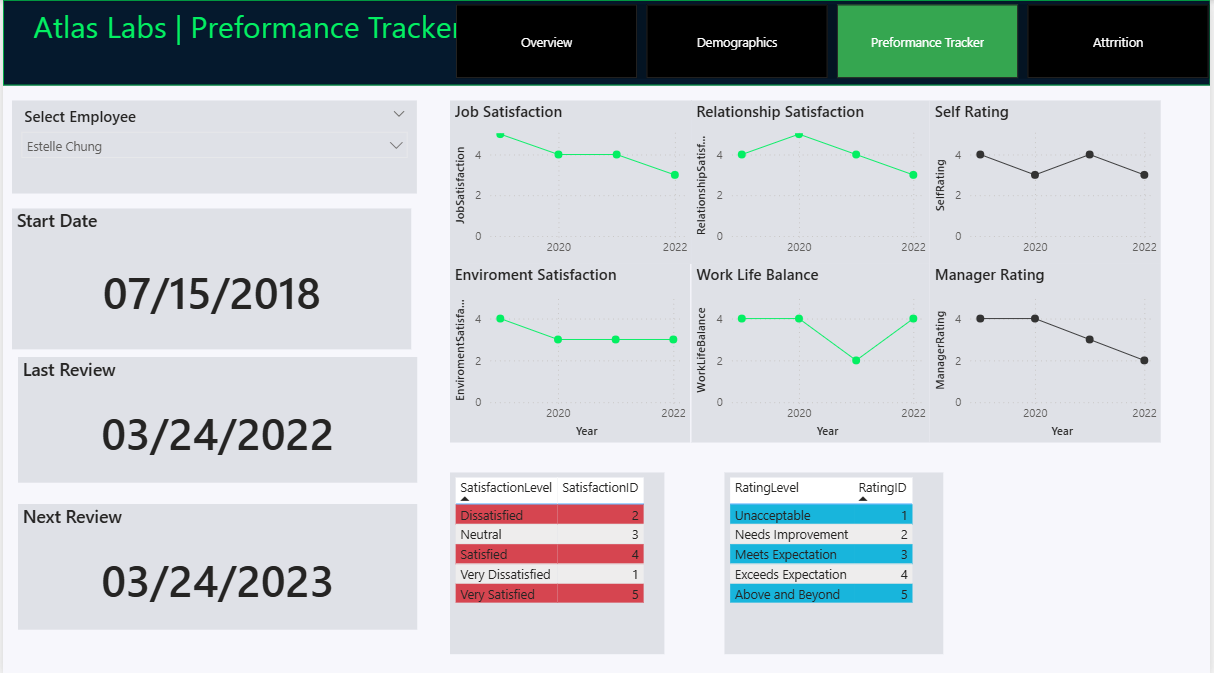

What the dashboard file says about the page in this screenshot:
{"tool":"powerbi","page":{"name":"Preformance Tracker","canvas":[1280,720],"ordinal":2},"visuals":[{"type":"slicer","fields":{"Values":["DimEmployee.FullName"]},"box":[9.5,106.6,429.5,98.6],"z":0},{"type":"card","title":"Start Date ","fields":{"Values":["Min(DimEmployee.HireDate)"]},"box":[9.5,221.1,423.1,149.5],"z":1000},{"type":"card","title":"Last Review ","fields":{"Values":["__Measures.LastReviewDate"]},"box":[15.9,378.6,423.1,133.6],"z":2000},{"type":"card","title":"Next Review ","fields":{"Values":["__Measures.NextReviewDate"]},"box":[15.9,534.4,423.1,133.6],"z":3000},{"type":"lineChart","title":"Job Satisfaction","fields":{"Category":["DimDate.Year"],"Y":["__Measures.JobSatisfaction"]},"box":[474,106.6,256.1,173.4],"z":4000},{"type":"lineChart","title":"Relationship Satisfaction ","fields":{"Category":["DimDate.Year"],"Y":["__Measures.RelationshipSatisfaction"]},"box":[730.1,106.6,252.9,173.4],"z":5000},{"type":"lineChart","title":"Self Rating ","fields":{"Category":["DimDate.Year"],"Y":["__Measures.SelfRating"]},"box":[983,106.6,245,173.4],"z":6000},{"type":"lineChart","title":"Manager Rating ","fields":{"Category":["DimDate.Year"],"Y":["__Measures.ManagerRating"]},"box":[983,279.9,245,189.3],"z":7000},{"type":"lineChart","title":"Work Life Balance","fields":{"Category":["DimDate.Year"],"Y":["__Measures.WorkLifeBalance"]},"box":[730.1,279.9,252.9,189.3],"z":8000},{"type":"lineChart","title":"Enviroment Satisfaction","fields":{"Category":["DimDate.Year"],"Y":["__Measures.EnviromentSatisfaction"]},"box":[474,279.9,254.5,189.3],"z":9000},{"type":"tableEx","fields":{"Values":["DimSatisfiedLevel.SatisfactionLevel","DimSatisfiedLevel.SatisfactionID"]},"box":[474,501,227.5,192.5],"z":10000},{"type":"tableEx","fields":{"Values":["DimRatingLevel.RatingLevel","DimRatingLevel.RatingID"]},"box":[765.1,501,232.2,192.5],"z":11000},{"type":"shape","box":[0,0,1280.4,90.7],"z":12000},{"type":"textbox","box":[27,0,474,90.7],"z":13000},{"type":"pageNavigator","box":[480,4.1,800,79],"z":13001}]}

Visuals, with their boxes in screenshot pixels (x1, y1, x2, y2), scaled from the page's 1280x720 canvas onto the 1214x673 screenshot:
slicer - DimEmployee.FullName: box(9, 100, 416, 192)
"Start Date " card: box(9, 207, 410, 346)
"Last Review " card: box(15, 354, 416, 479)
"Next Review " card: box(15, 500, 416, 624)
"Job Satisfaction" lineChart: box(450, 100, 692, 262)
"Relationship Satisfaction " lineChart: box(692, 100, 932, 262)
"Self Rating " lineChart: box(932, 100, 1165, 262)
"Manager Rating " lineChart: box(932, 262, 1165, 439)
"Work Life Balance" lineChart: box(692, 262, 932, 439)
"Enviroment Satisfaction" lineChart: box(450, 262, 691, 439)
tableEx - DimSatisfiedLevel.SatisfactionLevel x DimSatisfiedLevel.SatisfactionID: box(450, 468, 665, 648)
tableEx - DimRatingLevel.RatingLevel x DimRatingLevel.RatingID: box(726, 468, 946, 648)
shape: box(0, 0, 1213, 85)
textbox: box(26, 0, 475, 85)
pageNavigator: box(455, 4, 1213, 78)
